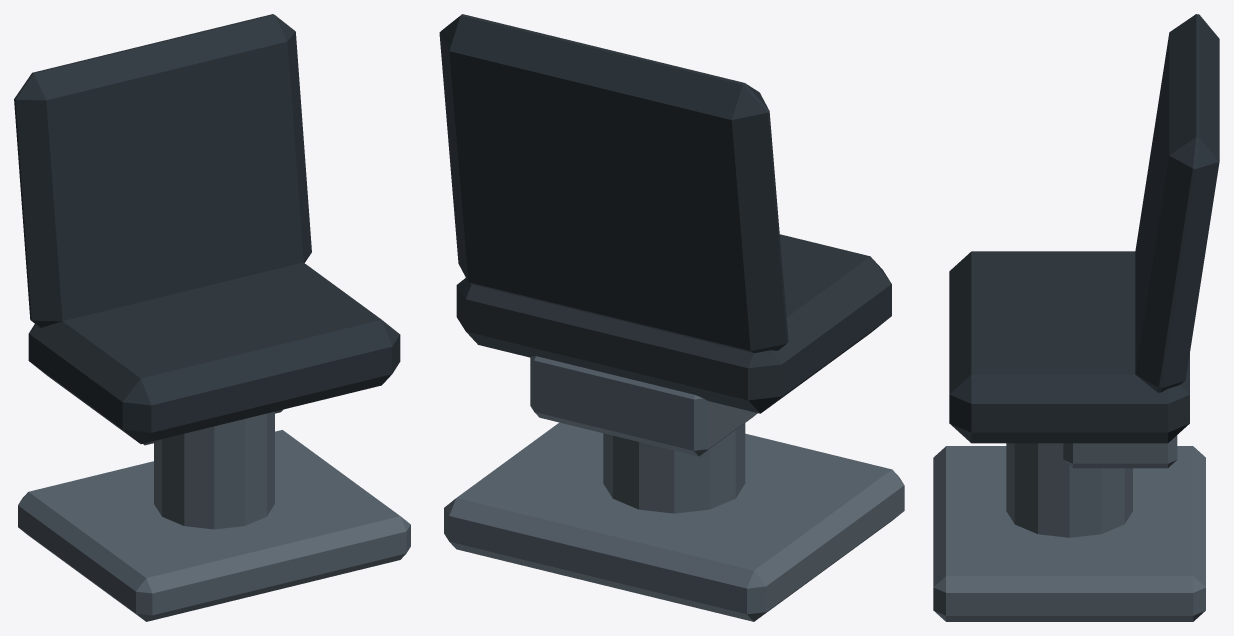
File: PlatformSeat.glb
3 renders of one model, left to right at view 1: azimuth 30°, elevation 25°; view 2: azimuth 150°, elevation 25°; view 3: azimuth 270°, elevation 25°, orthographic. The views are drawn at different scales.
Visible parts, largest first — view 1: FTF_Tool_VehiclePlatformSeat_Black_Static; view 2: FTF_Tool_VehiclePlatformSeat_Black_Static; view 3: FTF_Tool_VehiclePlatformSeat_Black_Static.
Boxes of the visible parts, x1,y1,x2,y2 form: FTF_Tool_VehiclePlatformSeat_Black_Static: (14, 14, 410, 621); FTF_Tool_VehiclePlatformSeat_Black_Static: (439, 14, 904, 621); FTF_Tool_VehiclePlatformSeat_Black_Static: (933, 14, 1219, 621).
Size of the model in its own units: 1.07 by 1.68 by 0.9028.
